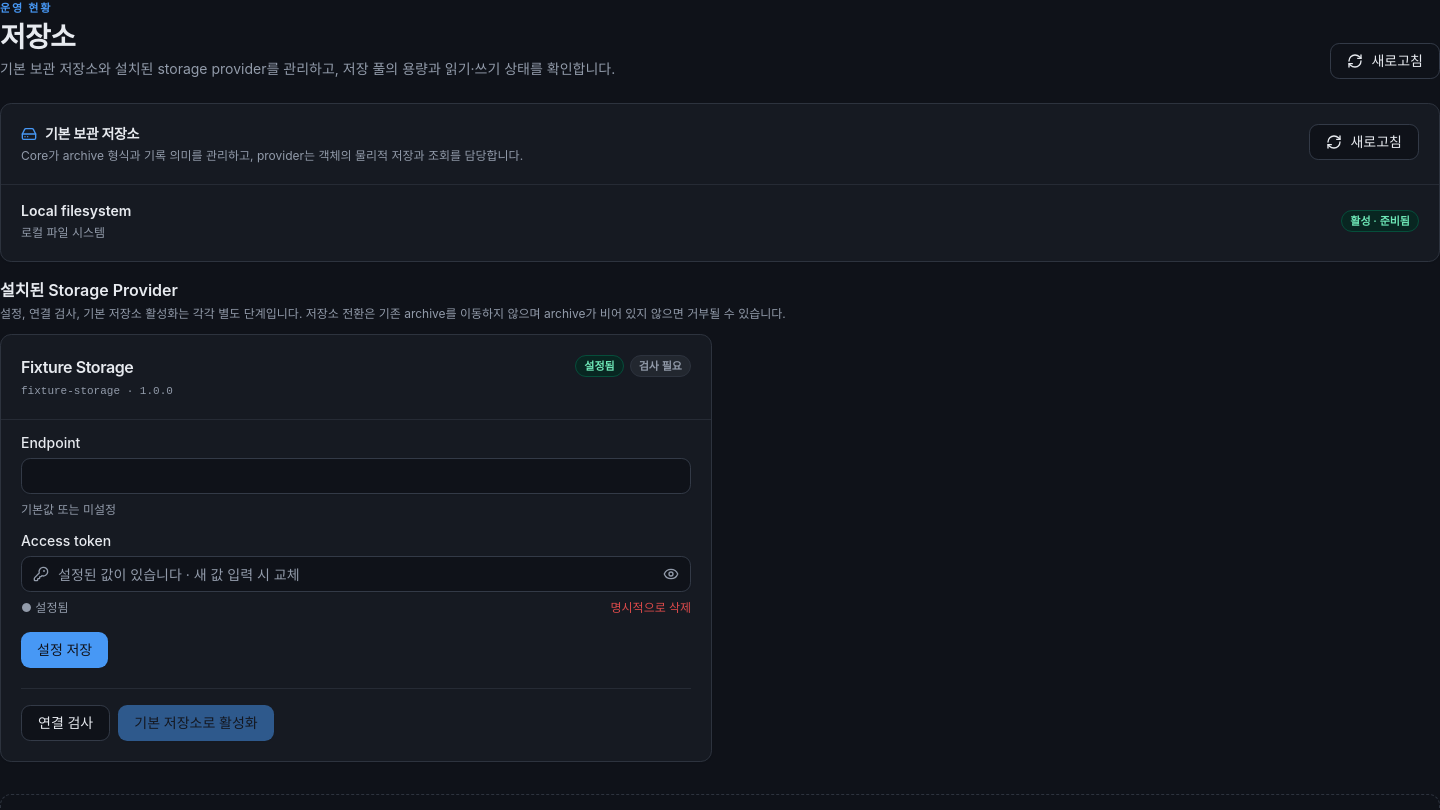
it: storage provider lifecycle UI › probes separately from activation and hides unsafe provider error detail
The width and height of the screenshot is (1440, 810).
Click the button "연결 검사".
click(66, 723)  # box left=21, top=705, right=110, bottom=741
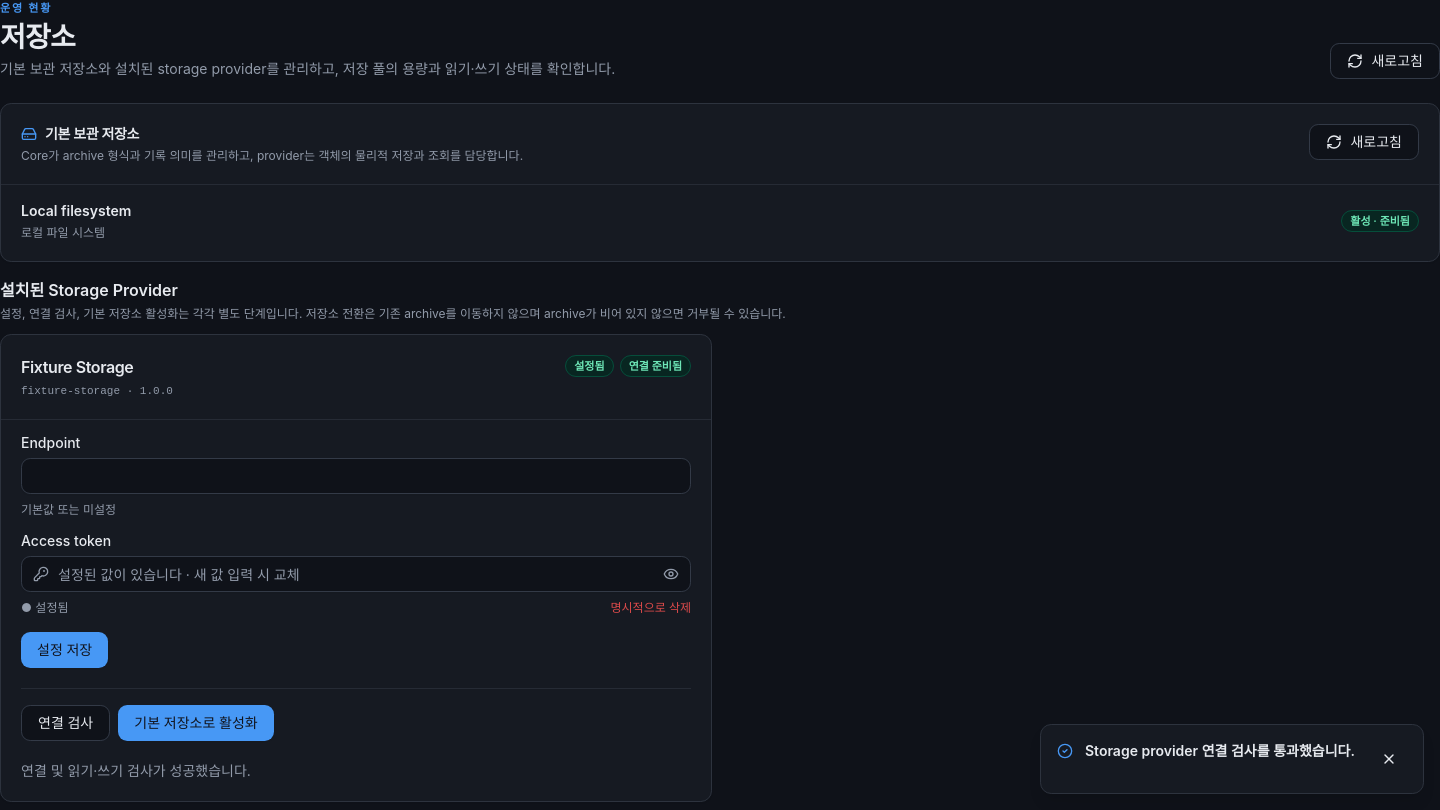
Check: the text "연결 및 읽기·쓰기 검사가 성공했습니다." is shown, box left=21, top=762, right=251, bottom=779
Click the button "기본 저장소로 활성화".
click(196, 723)  # box left=118, top=705, right=274, bottom=741
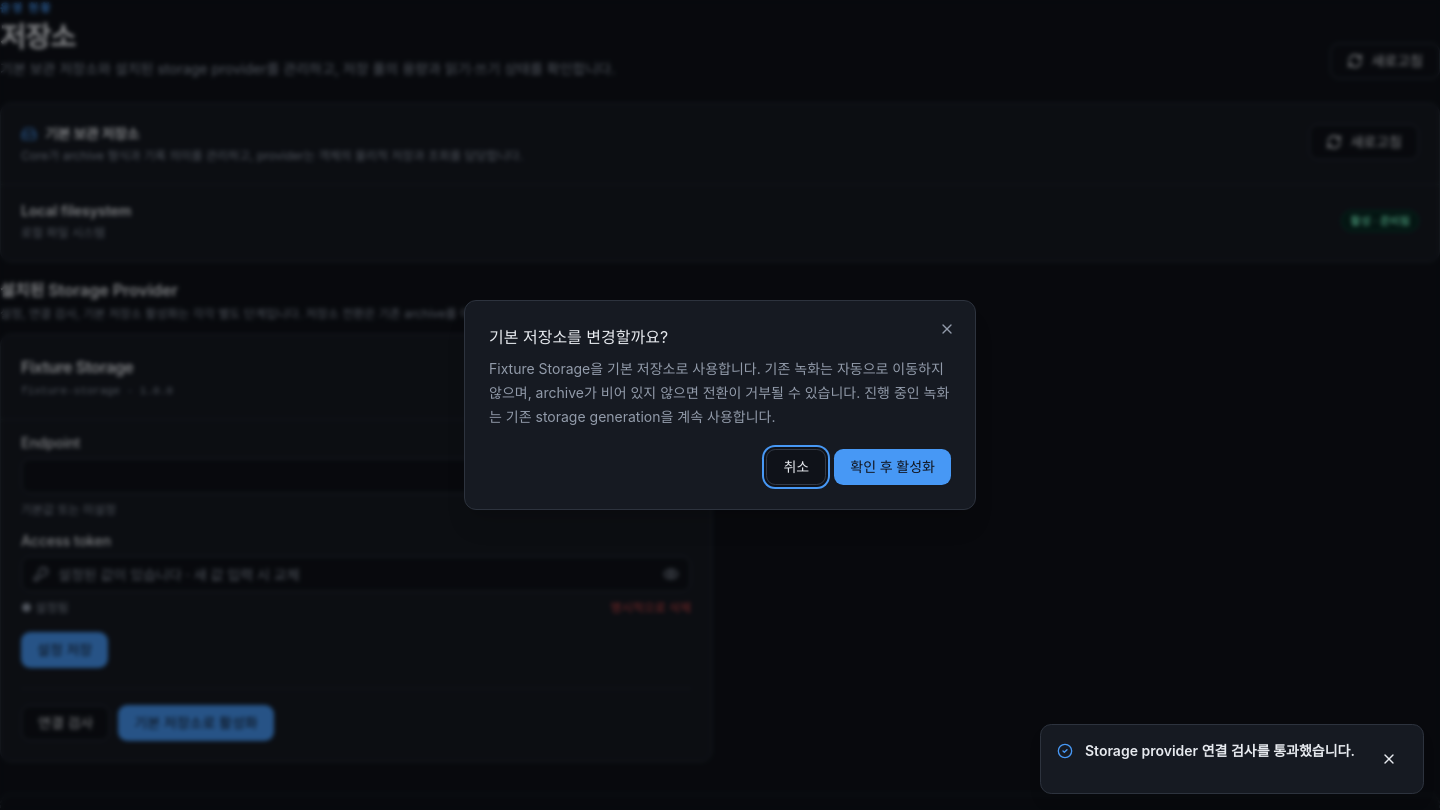
Check: the dialog shows "기존 녹화는 자동으로 이동하지 않으며", box left=489, top=360, right=949, bottom=425
Click the button "확인 후 활성화".
click(893, 467)  # box left=834, top=449, right=951, bottom=485
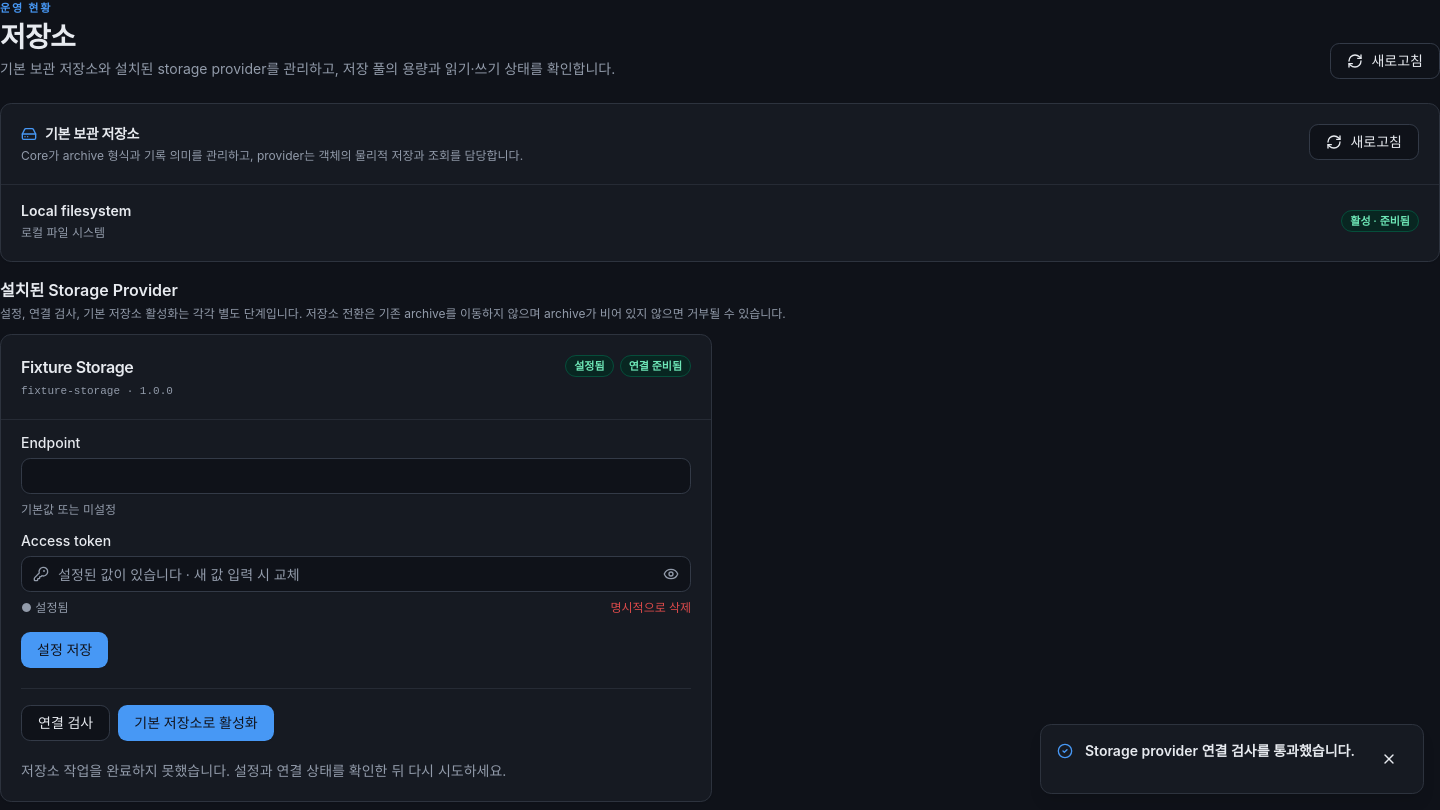
Check: the message shows "저장소 작업을 완료하지 못했습니다.", box left=21, top=762, right=506, bottom=779
